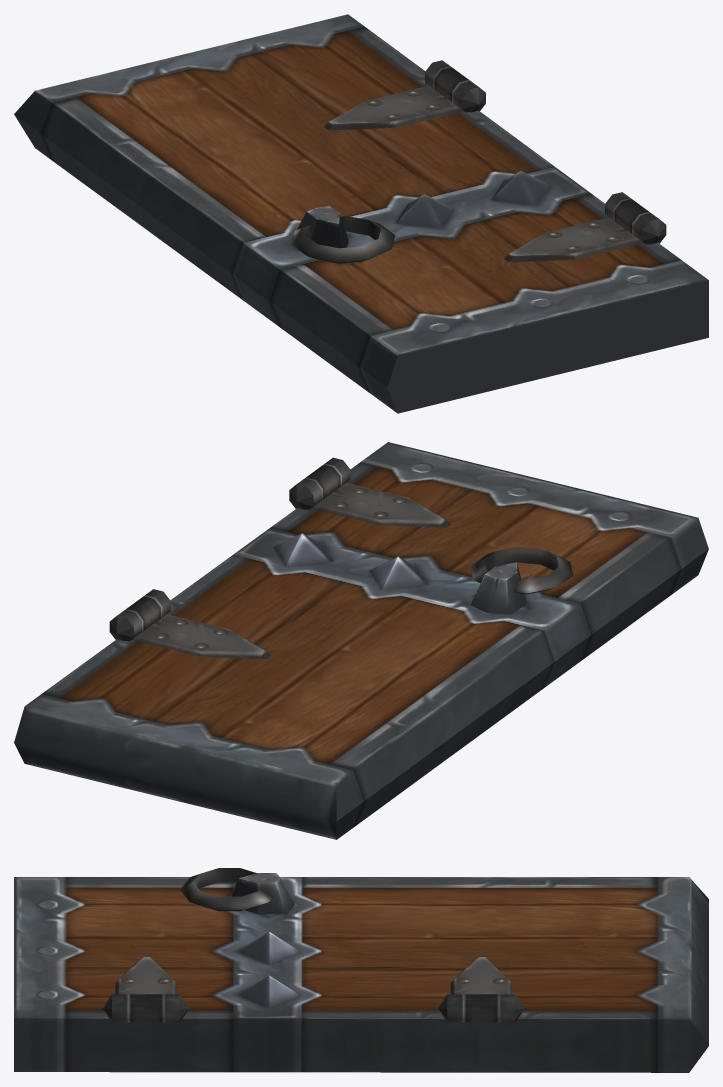
Rendered from Wall_gateL.fbx.
The picture shows the model from 3 angles, top to bottom: view 1: azimuth 30°, elevation 25°; view 2: azimuth 150°, elevation 25°; view 3: azimuth 270°, elevation 25°; orthographic projection. The views are drawn at different scales.
Visible parts, largest first — view 1: Wall_gateL; view 2: Wall_gateL; view 3: Wall_gateL.
Boxes of the visible parts, x1,y1,x2,y2 form: Wall_gateL: [14, 14, 708, 413]; Wall_gateL: [14, 442, 708, 839]; Wall_gateL: [14, 868, 708, 1072].
Bounding box in the file's own units: 1.55 × 0.482 × 3.03.
